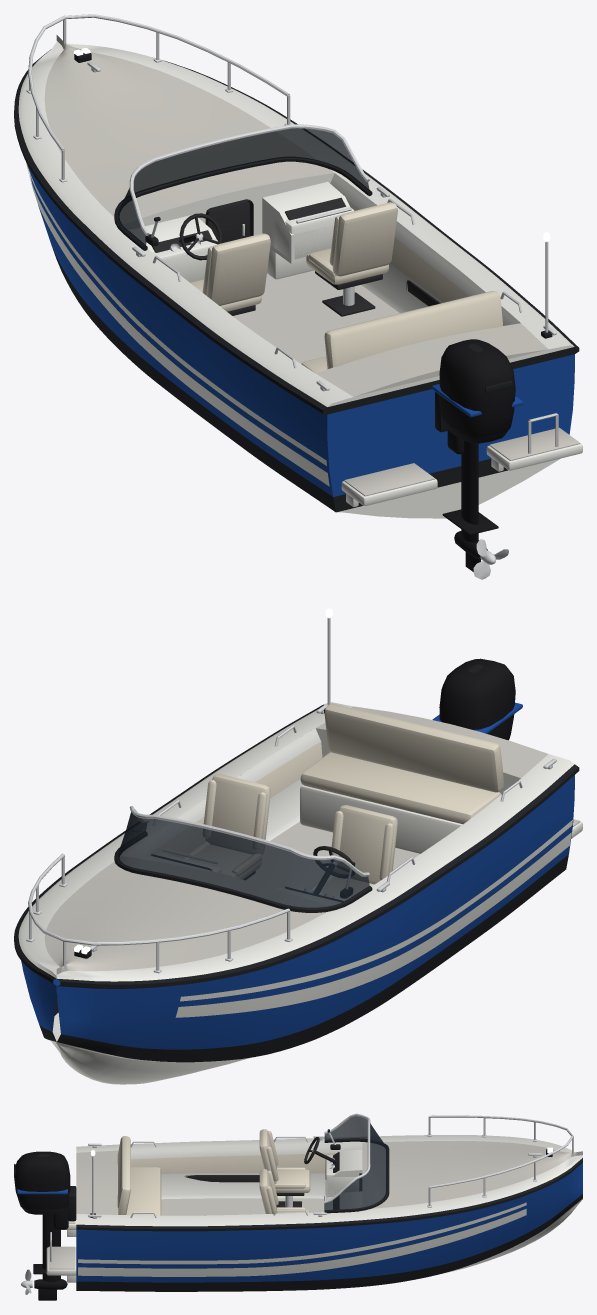
File: boat_body.glb
3 renders of one model, top to bottom at view 1: azimuth 30°, elevation 25°; view 2: azimuth 150°, elevation 25°; view 3: azimuth 270°, elevation 25°, orthographic. The views are drawn at different scales.
Visible parts, largest first — view 1: Hull, Cockpit, Outboard, Windscreen, FittingsStern, Stripes, FittingsBow; view 2: Hull, Cockpit, Windscreen, Stripes, Outboard, FittingsBow, FittingsStern; view 3: Hull, Cockpit, Stripes, Outboard, Windscreen, FittingsStern, FittingsBow.
Part boxes in pixels (bbox=[...]): Hull: bbox=[14, 35, 579, 518]; Cockpit: bbox=[123, 173, 520, 373]; Outboard: bbox=[431, 339, 522, 571]; Windscreen: bbox=[114, 124, 372, 250]; FittingsStern: bbox=[132, 187, 582, 506]; Stripes: bbox=[26, 162, 329, 486]; FittingsBow: bbox=[26, 14, 291, 182]; Hull: bbox=[14, 702, 579, 1084]; Cockpit: bbox=[123, 703, 520, 905]; Windscreen: bbox=[114, 806, 372, 912]; Stripes: bbox=[175, 820, 572, 1017]; Outboard: bbox=[432, 658, 522, 740]; FittingsBow: bbox=[26, 853, 292, 973]; FittingsStern: bbox=[153, 608, 582, 892]; Hull: bbox=[76, 1135, 582, 1291]; Cockpit: bbox=[117, 1129, 362, 1215]; Stripes: bbox=[78, 1202, 526, 1276]; Outboard: bbox=[14, 1151, 76, 1300]; Windscreen: bbox=[324, 1113, 389, 1213]; FittingsStern: bbox=[46, 1136, 326, 1282]; FittingsBow: bbox=[427, 1115, 573, 1207].
Bounding box in the file's own units: 2.46 × 2.41 × 6.76.
